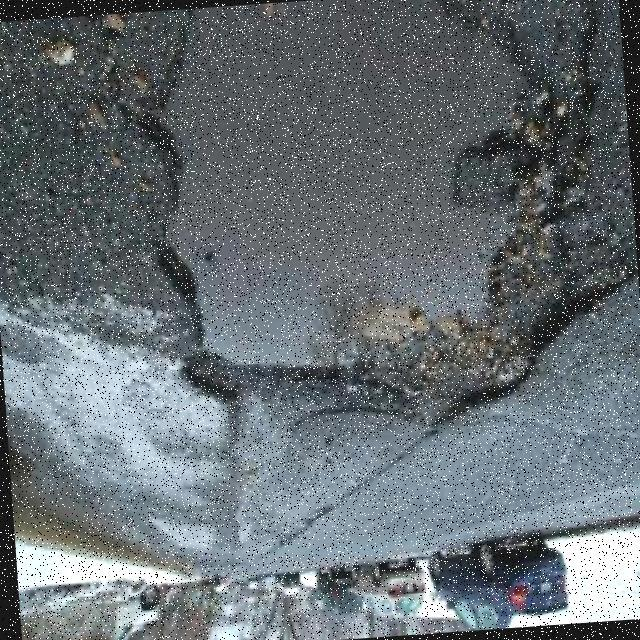Pothole: (145, 0, 633, 422)
